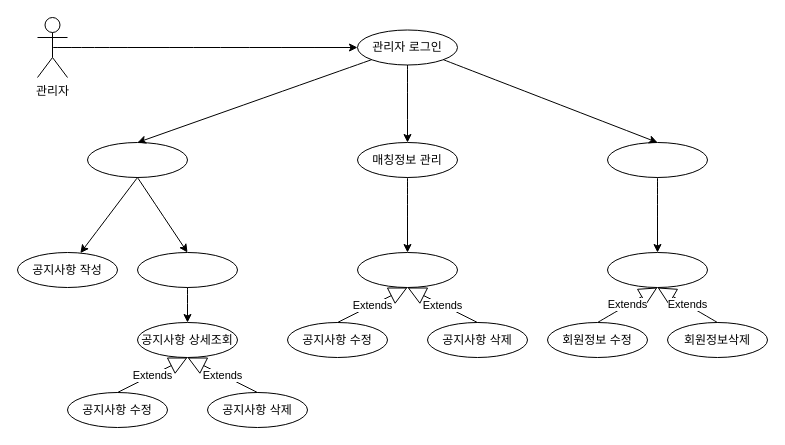
The diagram is 785 pixels wide and 445 high, and some of its shapes have lost their labels. Each missing label, with the centre of its shape:
"공지사항 관리" goes at (x=137, y=160).
"공지사항 조회" goes at (x=187, y=270).
"매칭정보 목록 조회" goes at (x=407, y=270).
"회원정보 관리" goes at (x=657, y=160).
"회원정보 목록 조회" goes at (x=657, y=270).
